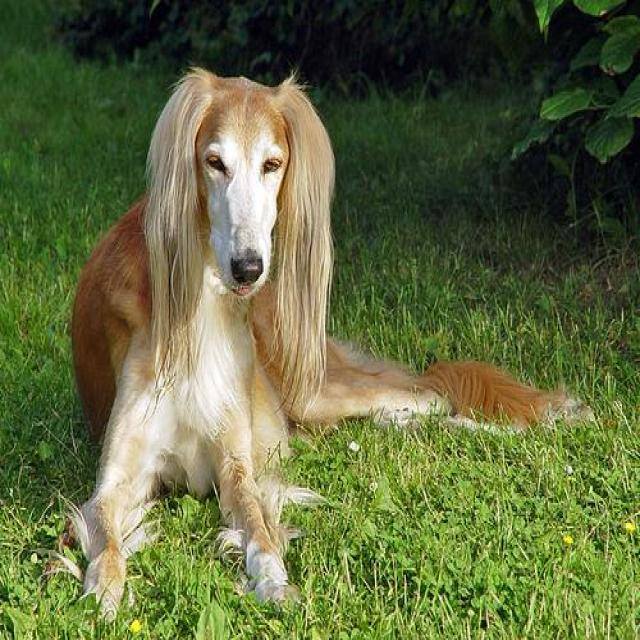saluki: (69, 65, 588, 620)
